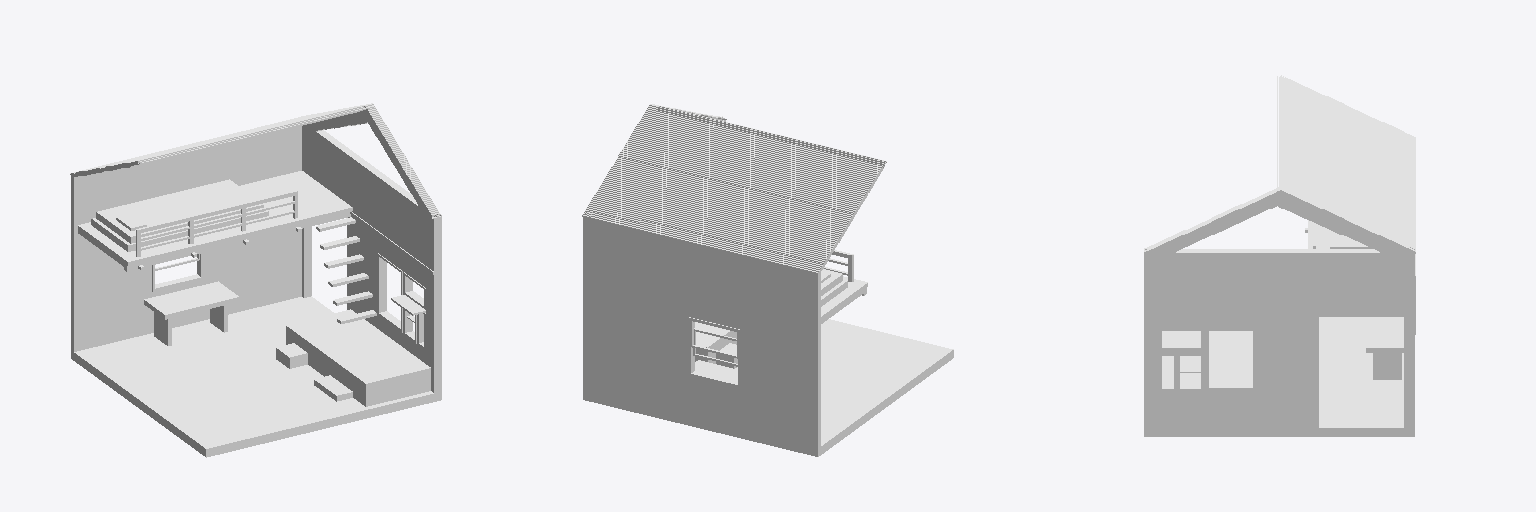
File: 3dHouse.obj
3 views of the same model, side by side, from view 1: azimuth 30°, elevation 25°; view 2: azimuth 150°, elevation 25°; view 3: azimuth 270°, elevation 25° (orthographic).
Parts seen in each view (by area): view 1: object 1; view 2: object 1; view 3: object 1.
Boxes of the visible parts, box(x1,y1,x2,y2) form: object 1: box(70, 103, 441, 457); object 1: box(582, 104, 953, 456); object 1: box(1144, 75, 1415, 436).
Size of the model in its own units: 25.6 by 25.6 by 25.6.